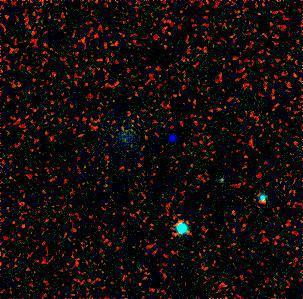star: (156, 123, 186, 153)
